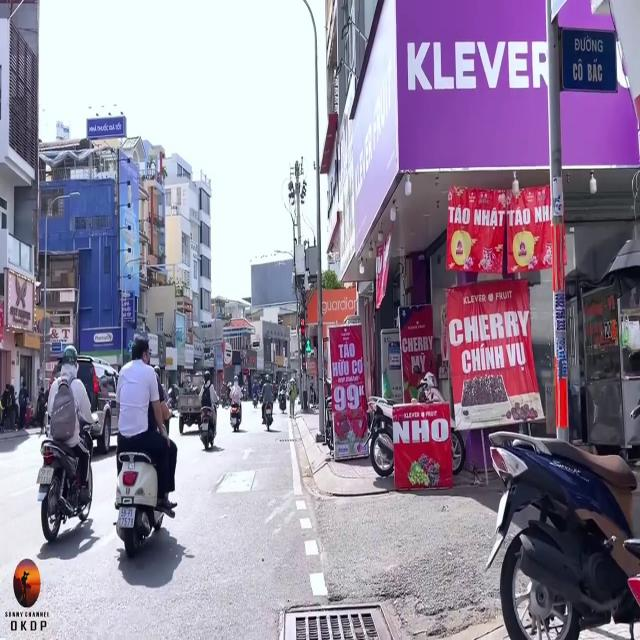bien_trang: (116, 499, 136, 530), (35, 462, 56, 488)
